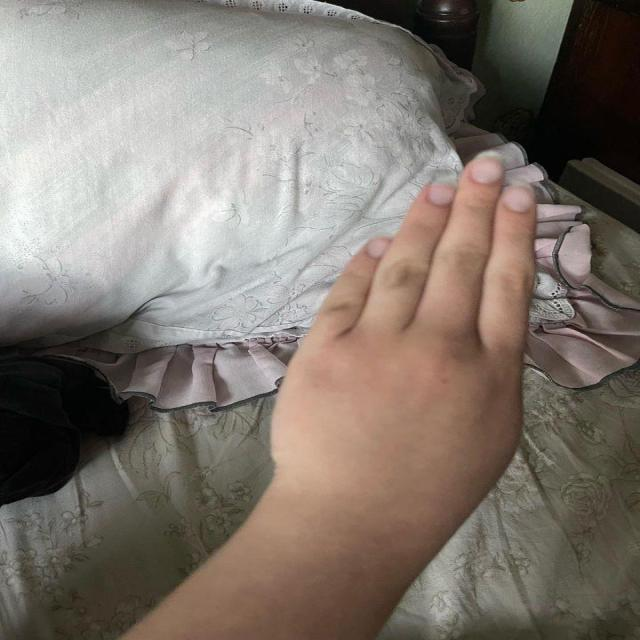B: (253, 145, 570, 523)
